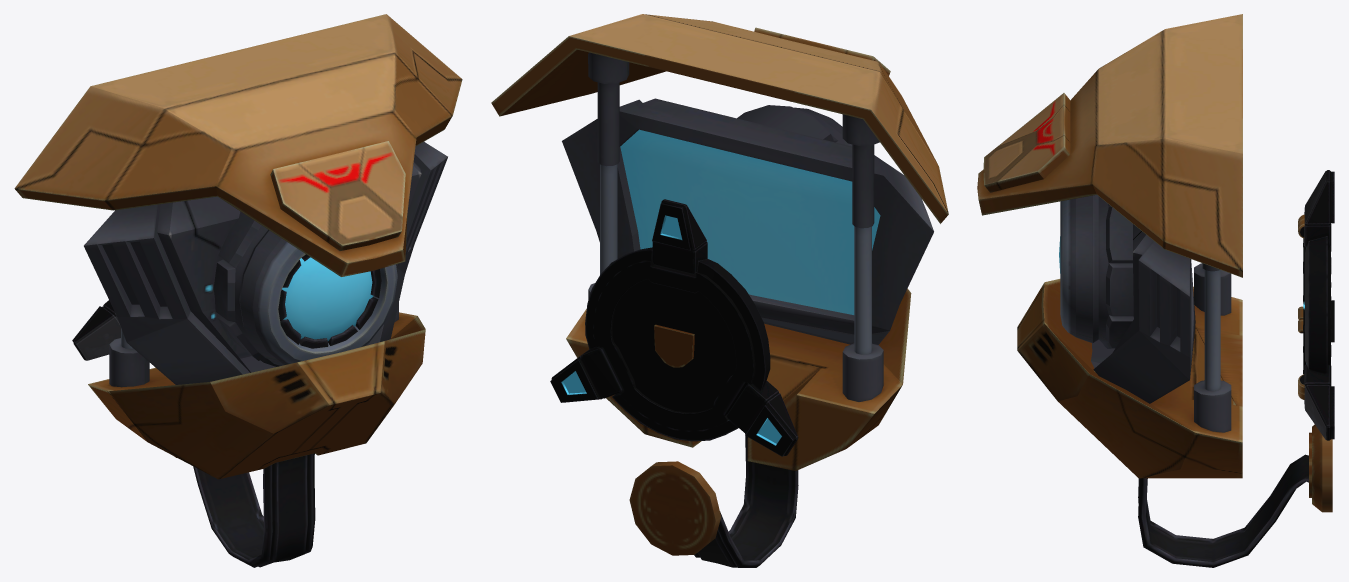
The model's file is spycam.glb.
3 views of the same model, side by side, from view 1: azimuth 30°, elevation 25°; view 2: azimuth 150°, elevation 25°; view 3: azimuth 270°, elevation 25° (orthographic). The views are drawn at different scales.
Visible parts, largest first — view 1: AB_Gumshoe_S0_Q_Staticmesh.mo; view 2: AB_Gumshoe_S0_Q_Staticmesh.mo; view 3: AB_Gumshoe_S0_Q_Staticmesh.mo.
Part boxes in pixels (box(x1,y1,x2,y2)): AB_Gumshoe_S0_Q_Staticmesh.mo: box(14, 14, 462, 567); AB_Gumshoe_S0_Q_Staticmesh.mo: box(491, 14, 948, 567); AB_Gumshoe_S0_Q_Staticmesh.mo: box(977, 14, 1334, 567).
Size of the model in its own units: 0.2219 by 0.2326 by 0.1584.
Materials: 1 (1 with a texture image).
